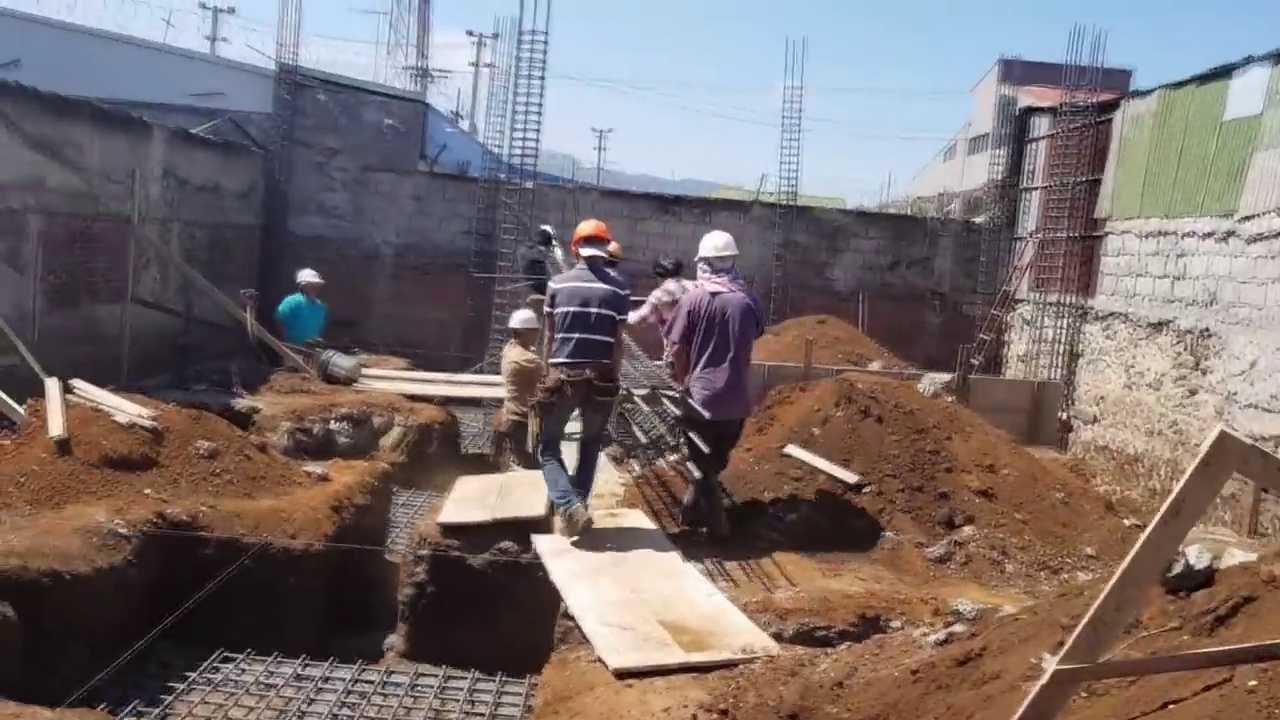helmet: (693, 230, 740, 268), (570, 217, 614, 253), (507, 305, 540, 335), (296, 268, 327, 290)
helmet-off: (653, 255, 686, 282), (530, 225, 555, 248)
helmet-on: (569, 217, 620, 273), (692, 231, 741, 289), (507, 305, 542, 350), (295, 268, 325, 304)
person: (653, 229, 761, 556), (540, 219, 638, 541), (490, 303, 554, 480), (640, 254, 688, 362), (269, 261, 330, 343), (515, 220, 558, 294)
